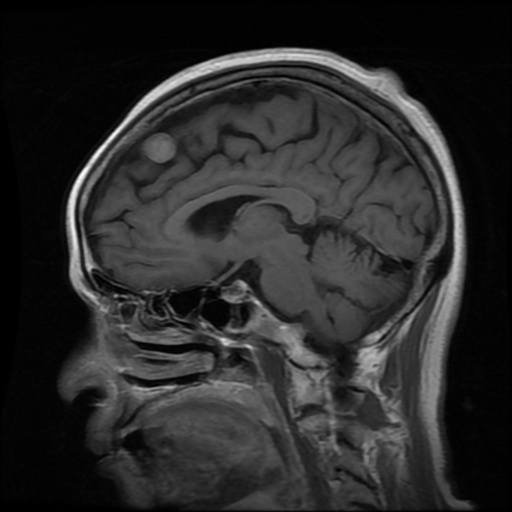meningioma: (143, 131, 179, 163)
